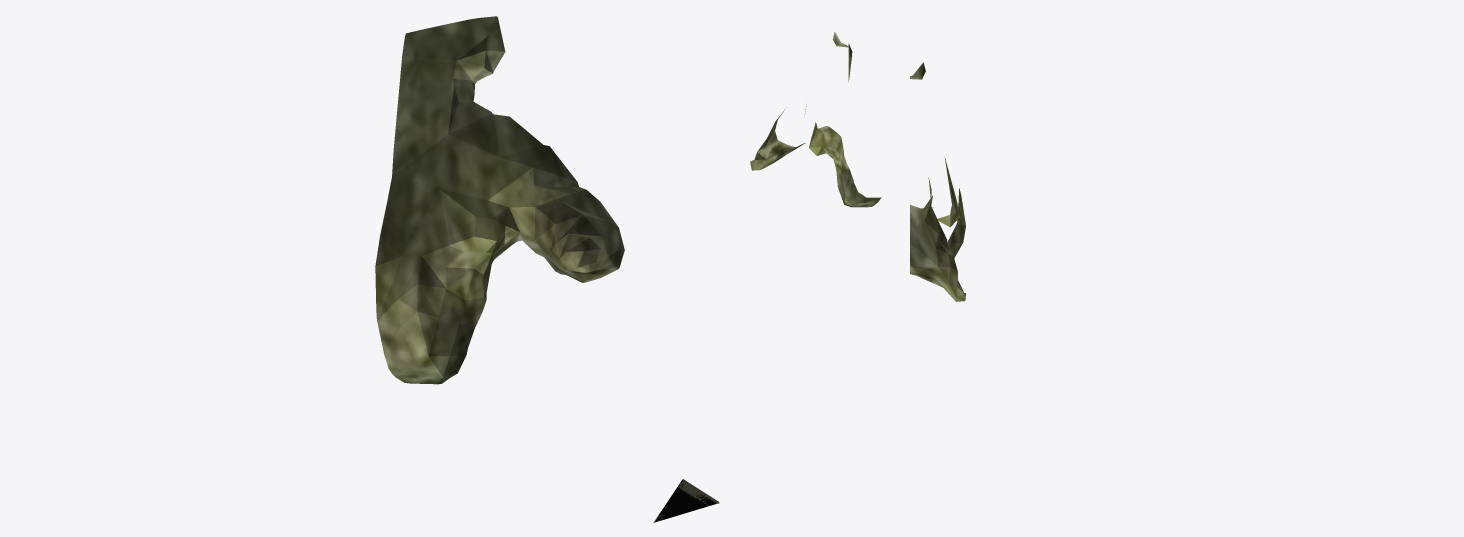
The picture shows the model from 3 angles, left to right: view 1: azimuth 30°, elevation 25°; view 2: azimuth 150°, elevation 25°; view 3: azimuth 270°, elevation 25°; orthographic projection. The views are drawn at different scales.
Size of the model in its own units: 1.95 by 5.9 by 5.9.
1 material, 1 textured.
